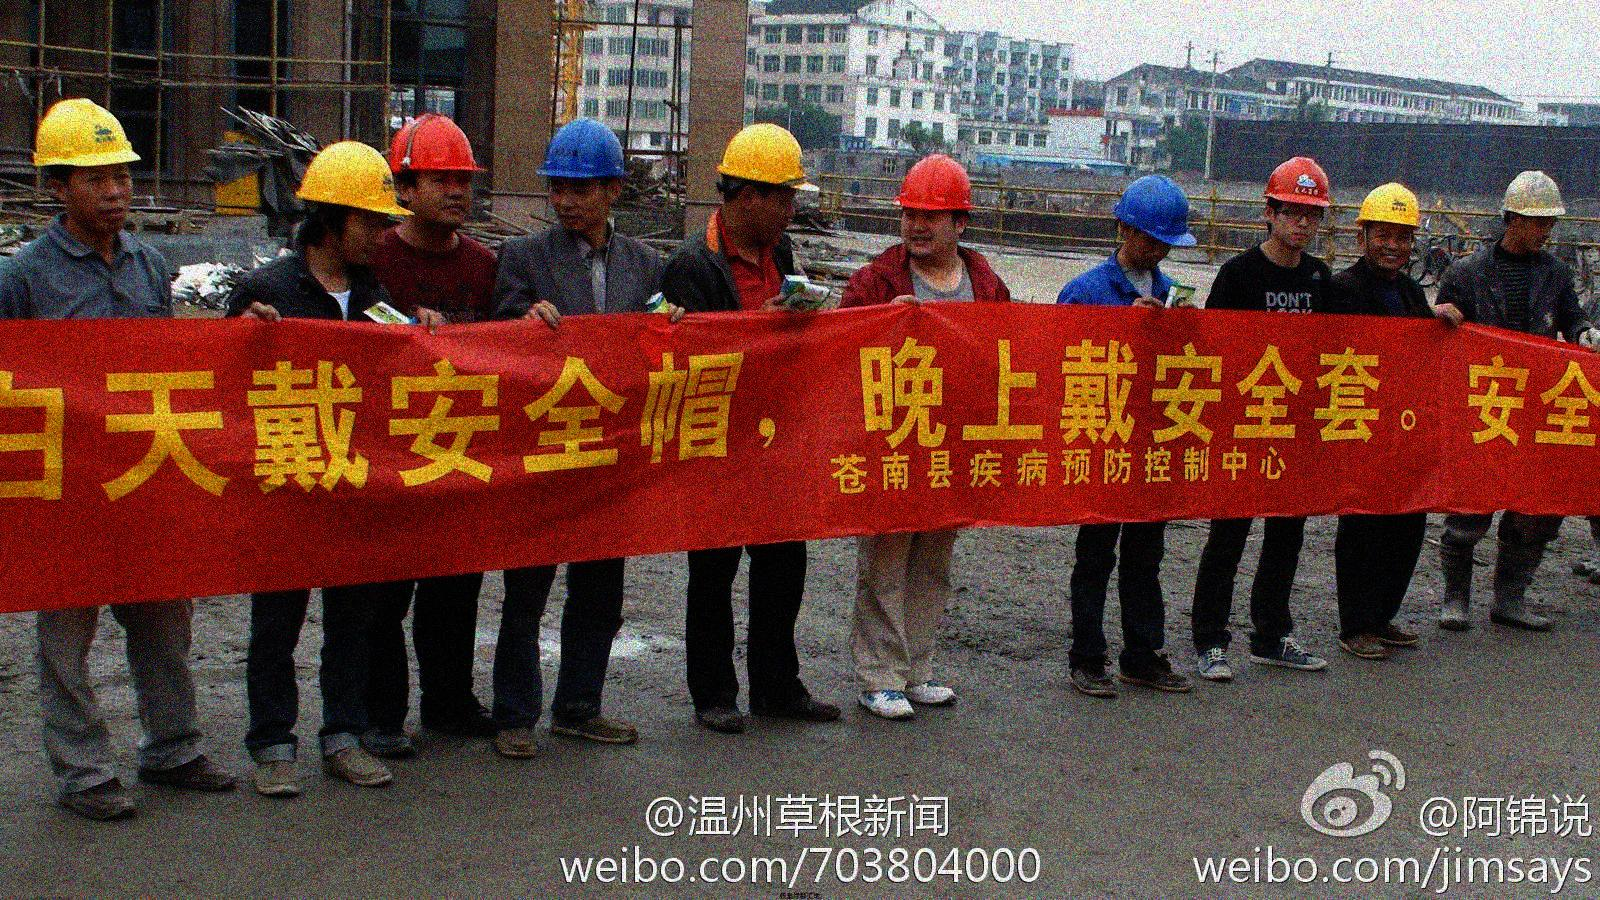helmet: (291, 137, 414, 270), (32, 95, 143, 232), (715, 120, 819, 248), (534, 115, 627, 236), (391, 113, 488, 225), (887, 151, 978, 262), (1109, 171, 1199, 273), (1259, 154, 1333, 252), (1355, 179, 1422, 271), (1497, 167, 1567, 253)
